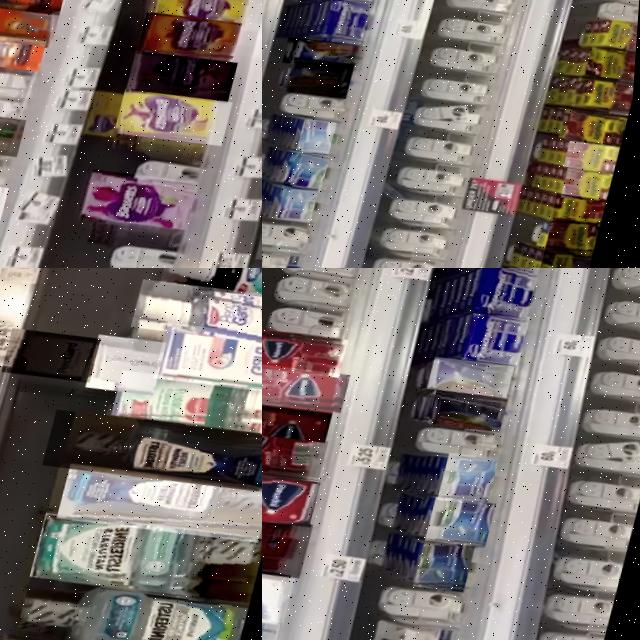Mouthwash: (34, 505, 262, 625), (45, 401, 262, 515), (60, 457, 262, 563), (21, 563, 260, 640)
Other: (113, 366, 262, 457), (131, 276, 262, 369), (155, 321, 262, 414), (84, 168, 202, 242), (116, 88, 236, 159), (126, 49, 241, 116), (137, 11, 244, 77), (4, 327, 105, 394), (262, 356, 355, 424), (262, 321, 352, 388), (89, 337, 171, 407), (160, 268, 262, 323), (262, 460, 328, 537), (262, 505, 322, 588), (262, 390, 339, 452), (262, 422, 334, 488), (430, 357, 520, 409), (465, 312, 534, 376), (431, 498, 503, 558), (432, 391, 514, 442), (286, 33, 372, 81), (475, 268, 543, 326), (420, 541, 483, 602), (442, 456, 504, 515), (289, 57, 360, 107), (262, 559, 303, 635), (569, 114, 634, 159), (579, 80, 639, 125), (552, 223, 608, 267), (287, 151, 337, 199), (556, 199, 614, 240), (566, 171, 620, 214), (569, 146, 627, 185), (0, 31, 48, 78), (588, 51, 640, 93), (594, 19, 640, 63), (282, 186, 325, 229), (0, 106, 29, 164), (302, 121, 342, 161), (543, 249, 601, 268)
